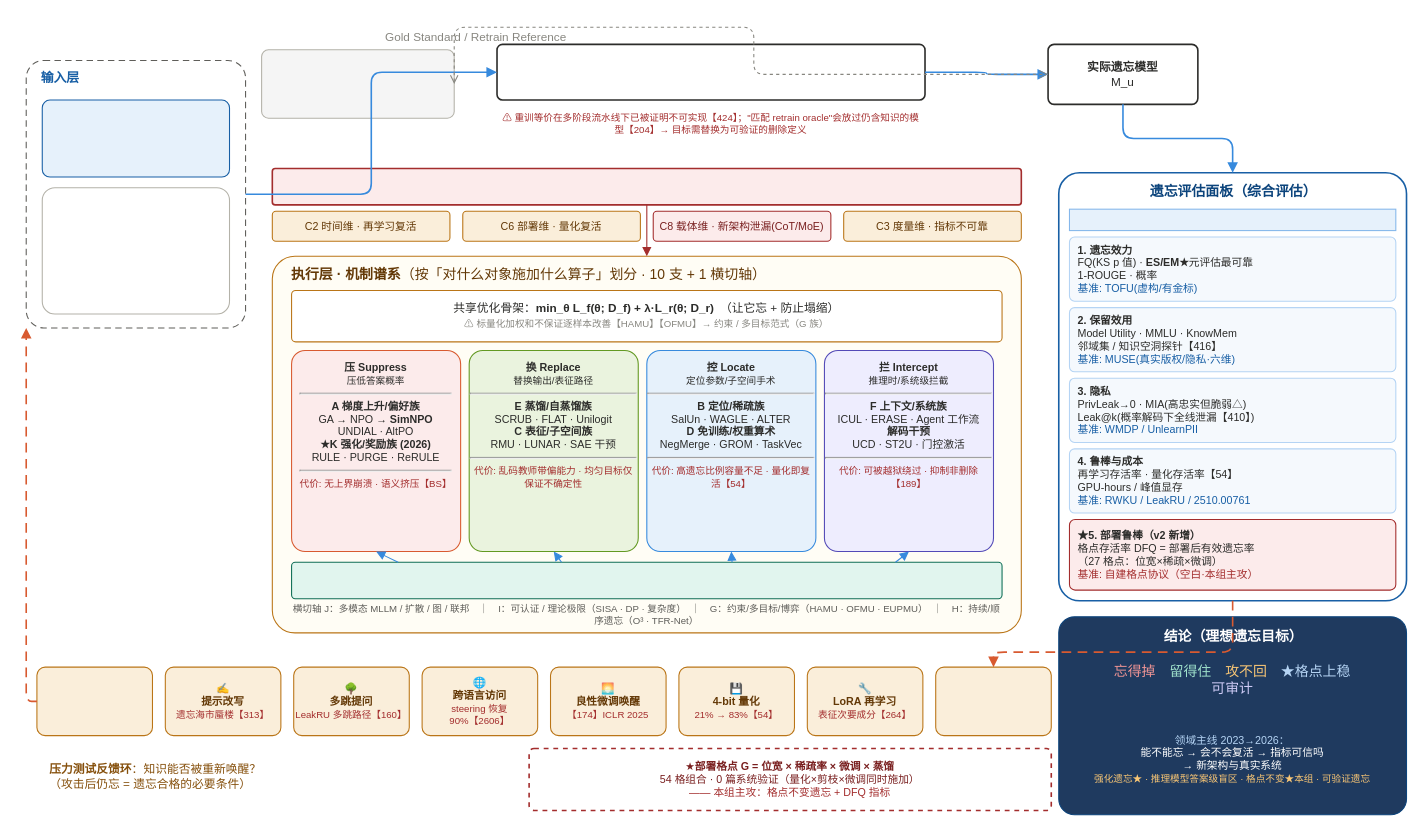
The diagram is 1426 pixels wide and 834 high, and some of its shapes have lost their labels. The centre of each missing label's shape, as x and y in pixels:
Unlearn(M, D_f, D_r) ≈ M_-f: (x=710, y=71)
抑制 ≠ 删除 — 概率被压低 ≠ 信息被移除 · 元挑战 C1（近似遗忘只优化输出分布，从不定义参数层的删除）: (x=646, y=186)
维度 关键指标 基准: (x=1232, y=219)
遗忘请求 忘集 D_f （要删除的数据） 留集 D_r （要保留的数据）: (x=135, y=250)
重训反事实模型 M_-f = Train(D \ D_f) Train from scratch: (x=357, y=83)
预训练模型 M ▬▬▬▬▬▬▬ ▬▬▬▬▬ ▬▬▬: (x=135, y=138)
🎭 MIA 推断 高忠实但脆弱【154】: (x=993, y=701)
🎲 概率采样 Leak@k 全线泄漏【410】: (x=94, y=701)
🛡 保留能力护栏 ：Retain CE · KL 对齐 · 锚定原模型表示 → 过度则: 知识空洞【416】/ 跨域涌现性失准【404】: (x=646, y=580)
